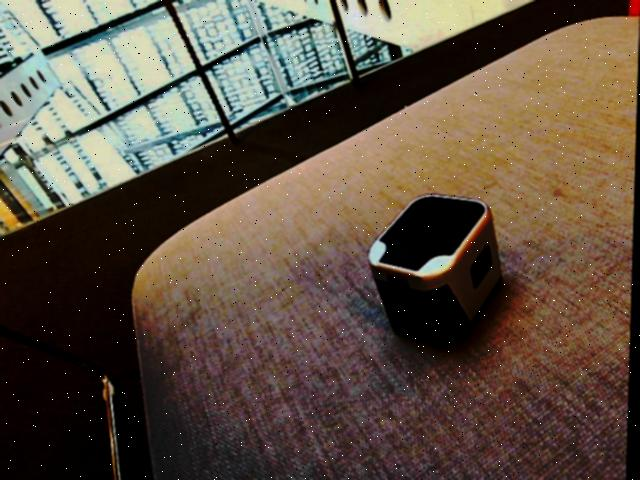adapter: (367, 193, 506, 347)
